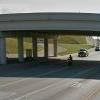Bridge: (4, 4, 99, 45)
